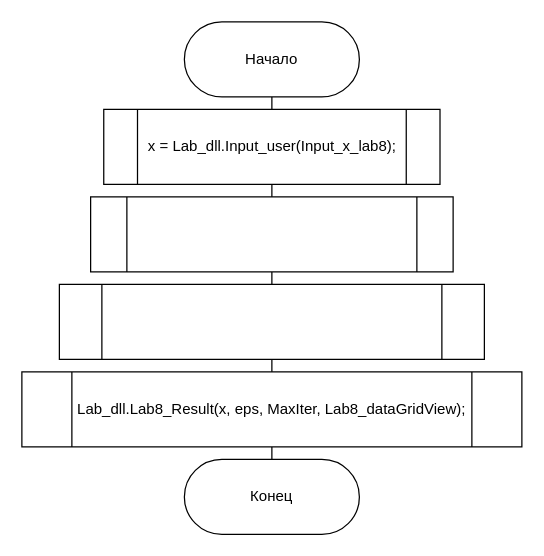
This 544x556 diagram has some shape labels left out. The centre of each missing label's shape, as x and y in pixels:
"eps = Lab_dll.Input_user(Input_eps_lab8);" goes at point 271,234.
"MaxIter = Lab_dll.Input_user(Input_MaxIter_lab8);" goes at point 271,321.
